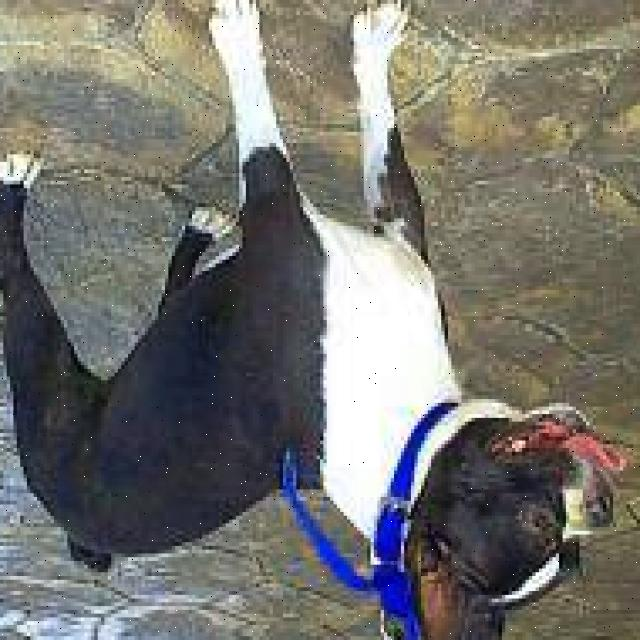Dog: (418, 393, 628, 620)
